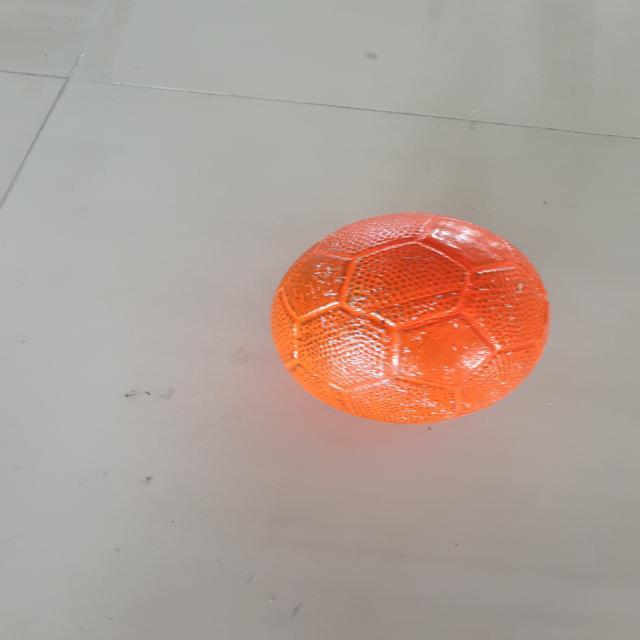bola: (261, 203, 560, 434)
